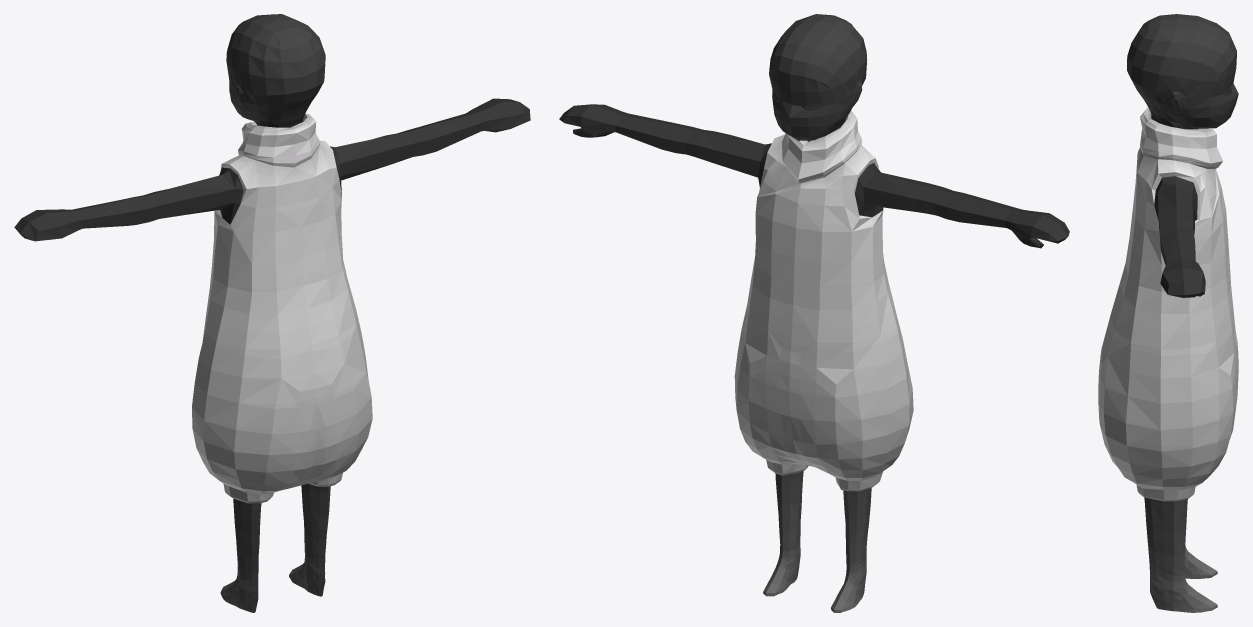
File: CharSkyKid_Body_AP24Classic.glb
The picture shows the model from 3 angles, left to right: view 1: azimuth 30°, elevation 25°; view 2: azimuth 150°, elevation 25°; view 3: azimuth 270°, elevation 25°; orthographic projection.
Visible parts, largest first — view 1: CharSkyKid_Body_AP24Classic; view 2: CharSkyKid_Body_AP24Classic; view 3: CharSkyKid_Body_AP24Classic.
Part boxes in pixels (box(x1,y1,x2,y2)): CharSkyKid_Body_AP24Classic: box(14, 14, 530, 612); CharSkyKid_Body_AP24Classic: box(559, 14, 1069, 612); CharSkyKid_Body_AP24Classic: box(1098, 14, 1238, 612).
Size of the model in its own units: 13.83 by 14.94 by 3.32.
Materials: 1 (1 with a texture image).
